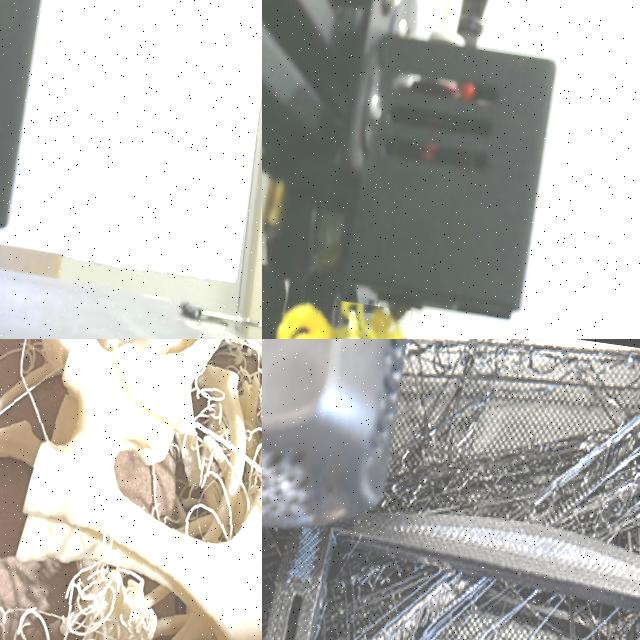spaghetti: (262, 339, 640, 640), (0, 339, 262, 640), (262, 292, 411, 339)
